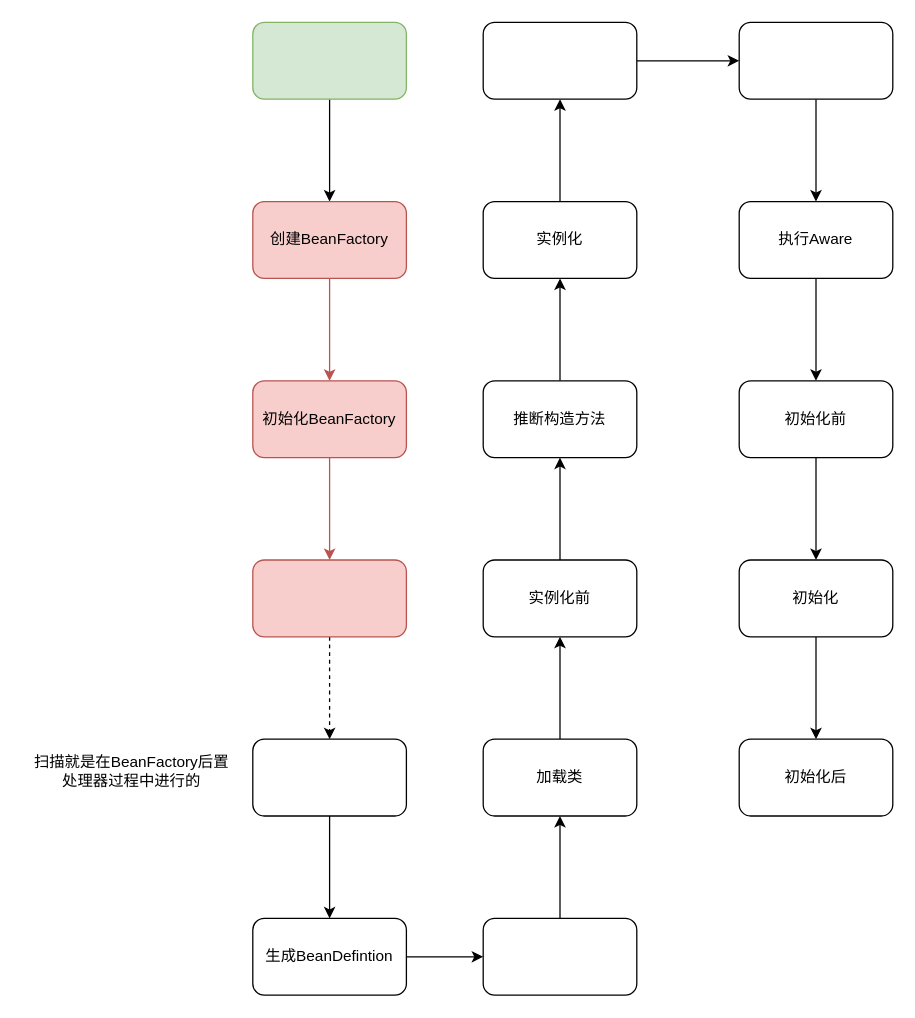
This 915x1018 diagram has some shape labels left out. The shapes that lost their labels are listed below. From the top down, each one's centre as x and y in pixels, then its label:
At (329,60): "启动ApplicationContext".
At (559,60): "BeanDefinition的后置处理".
At (815,60): "填充属性".
At (329,598): "执行BeanFactory后置处理器".
At (329,777): "进行扫描".
At (559,956): "合并BeanDefinition".
